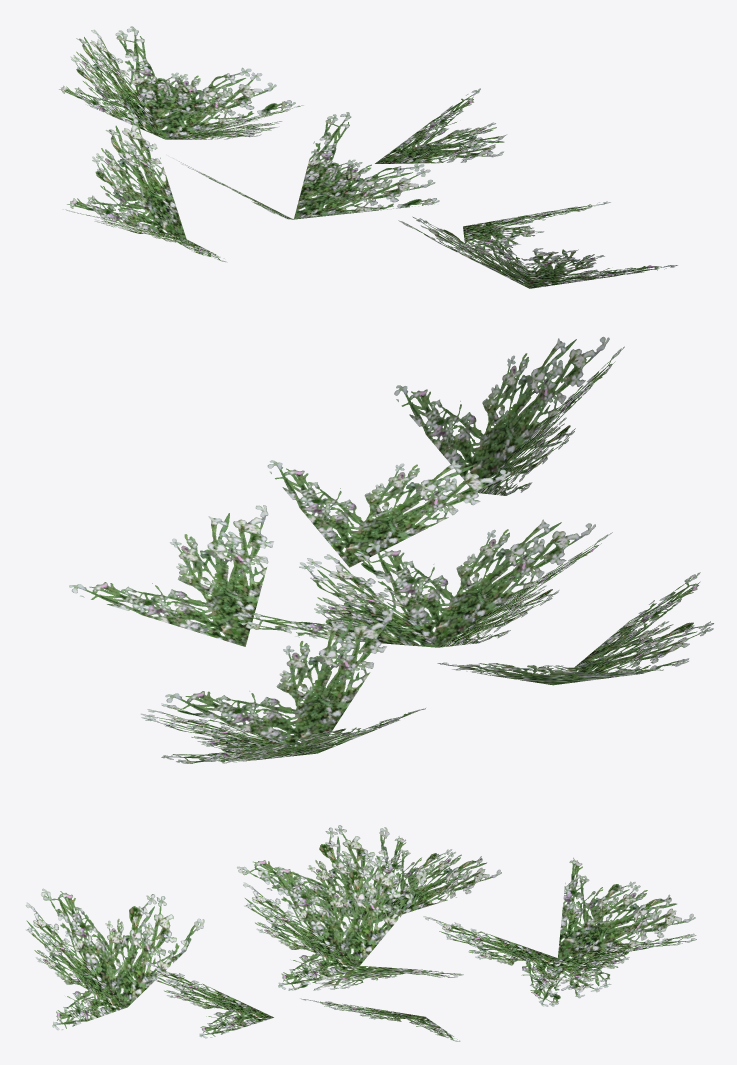
The model's file is ptch_groundflowers_sm_l1.fbx.
3 views of the same model, one above another, from view 1: azimuth 30°, elevation 25°; view 2: azimuth 150°, elevation 25°; view 3: azimuth 270°, elevation 25° (orthographic). The views are drawn at different scales.
Parts seen in each view (by area): view 1: mesh_node; view 2: mesh_node; view 3: mesh_node.
Boxes of the visible parts, <box> form: mesh_node: <box>59,26,677,288</box>; mesh_node: <box>69,336,713,763</box>; mesh_node: <box>25,825,696,1041</box>.
Bounding box in the file's own units: 1.19 × 0.2468 × 1.57.
Materials: 1 (1 with a texture image).
